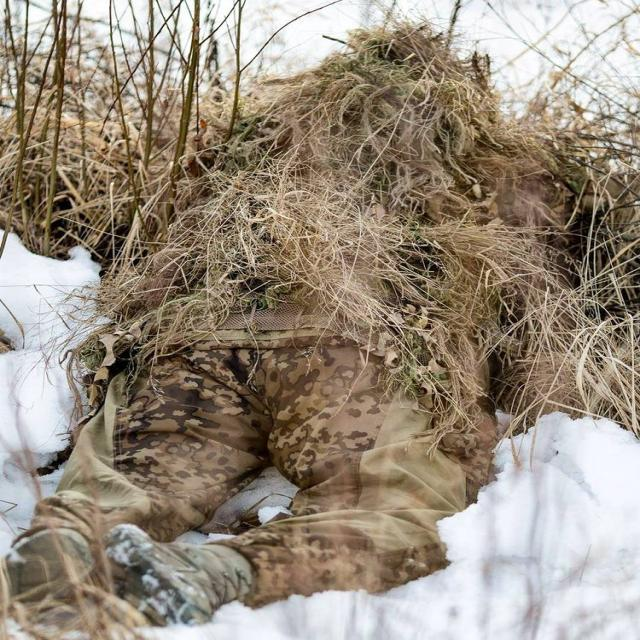Camouflage: (5, 31, 594, 640)
